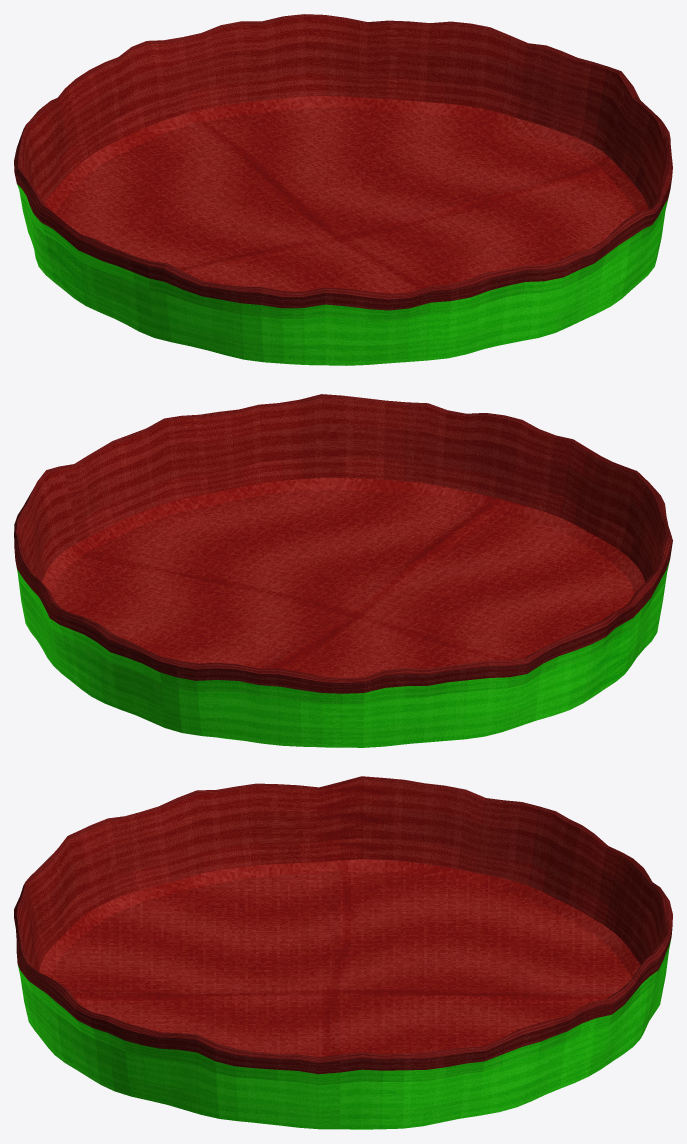
The model's file is KimjangMat.glb.
3 renders of one model, top to bottom at view 1: azimuth 30°, elevation 25°; view 2: azimuth 150°, elevation 25°; view 3: azimuth 270°, elevation 25°, orthographic.
Parts seen in each view (by area): view 1: KimjangMat; view 2: KimjangMat; view 3: KimjangMat.
Boxes of the visible parts, bbox=[...] form: KimjangMat: bbox=[14, 14, 672, 365]; KimjangMat: bbox=[14, 394, 672, 747]; KimjangMat: bbox=[14, 776, 672, 1129].
Size of the model in its own units: 3.25 by 0.4694 by 3.23.
Materials: 3 (3 with a texture image).
